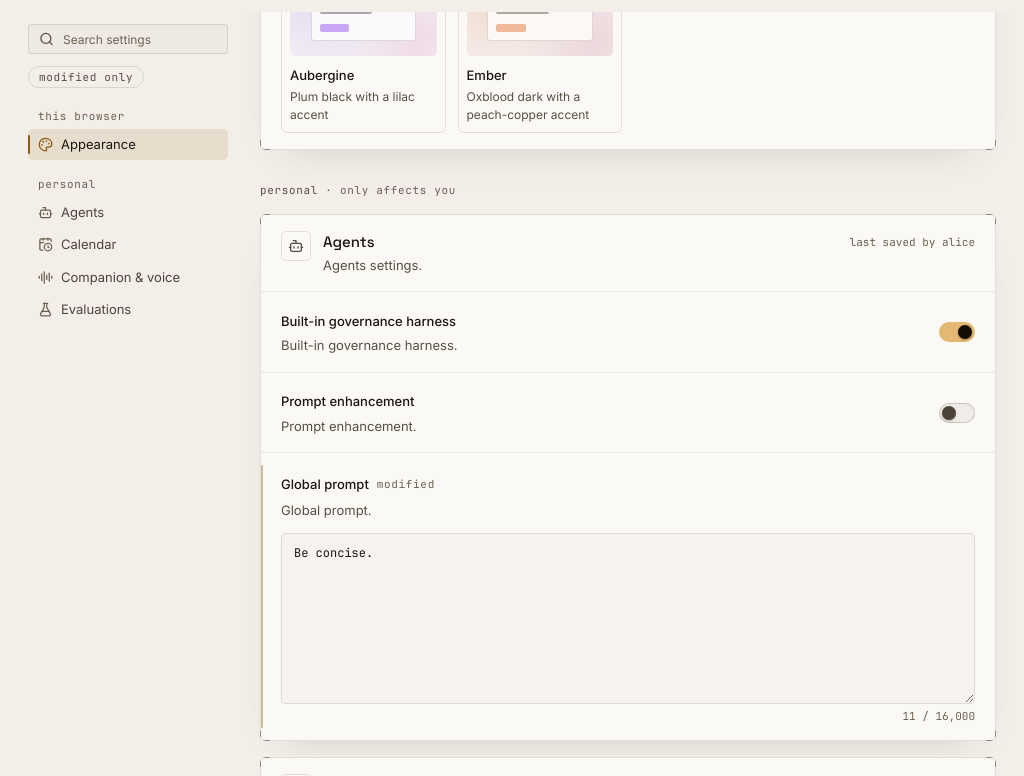
Scenario: Settings editing › saves only the changed fields of the changed groups
This screenshot has width=1024, height=776.
(page scrolled)
Click the switch labelled "Prompt enhancement" at (348, 402), box top-left (281, 392), bottom-right (414, 412)
(page scrolled)
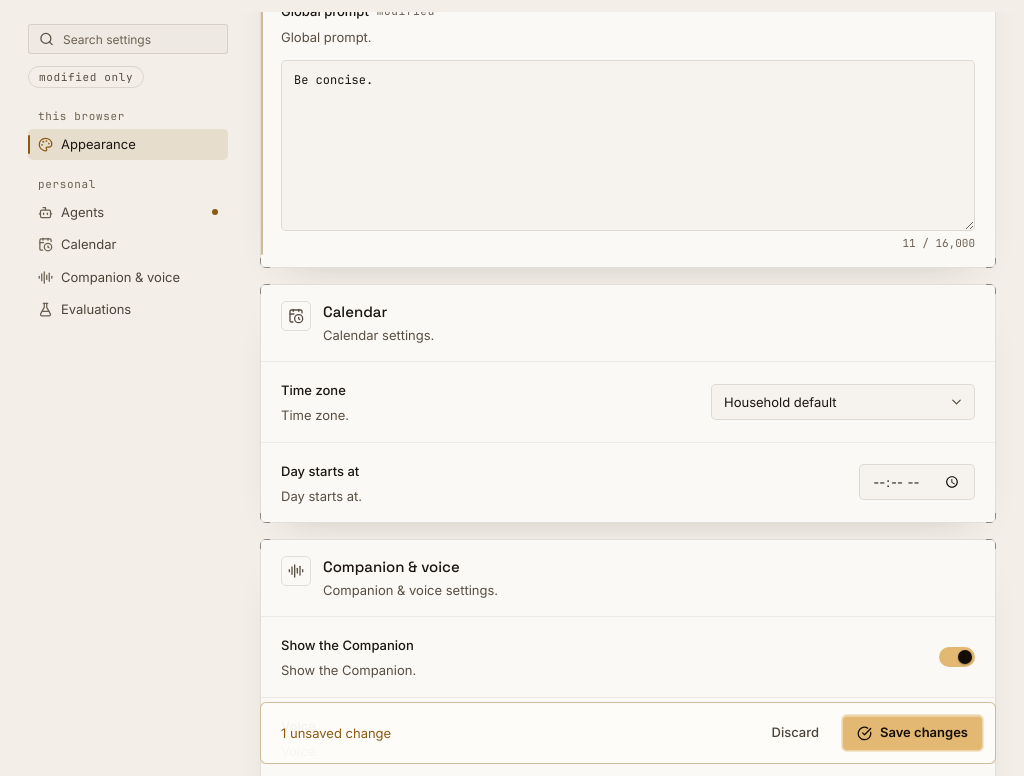
Select "Europe/Sofia" in the dropdown labelled "Time zone" at (843, 402), box top-left (711, 384), bottom-right (975, 420)
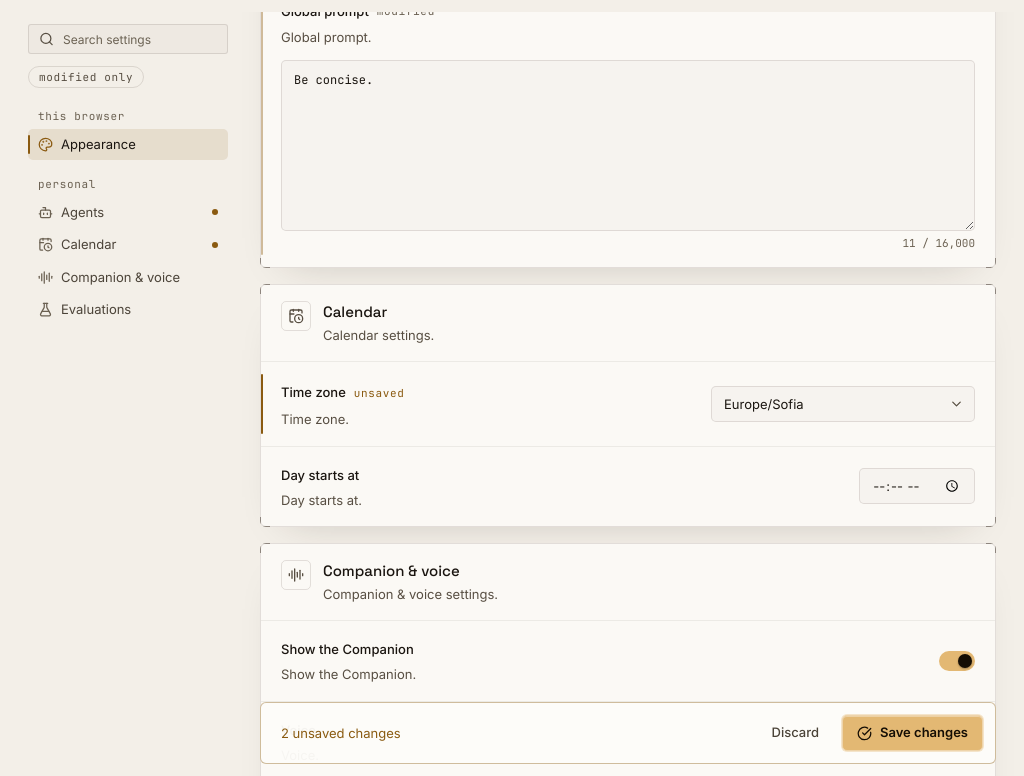
Type "07:30" into the time field labelled "Day starts at" at (917, 486), box top-left (859, 468), bottom-right (975, 504)
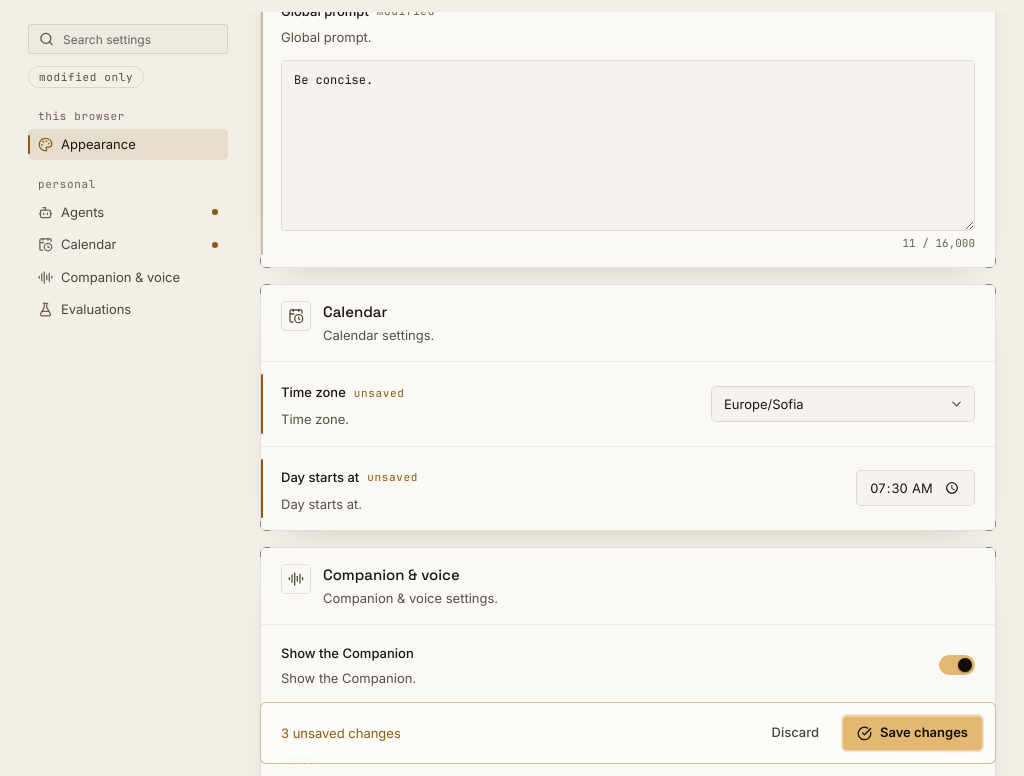
Click the button "Save changes" at (912, 733), box top-left (842, 715), bottom-right (983, 751)
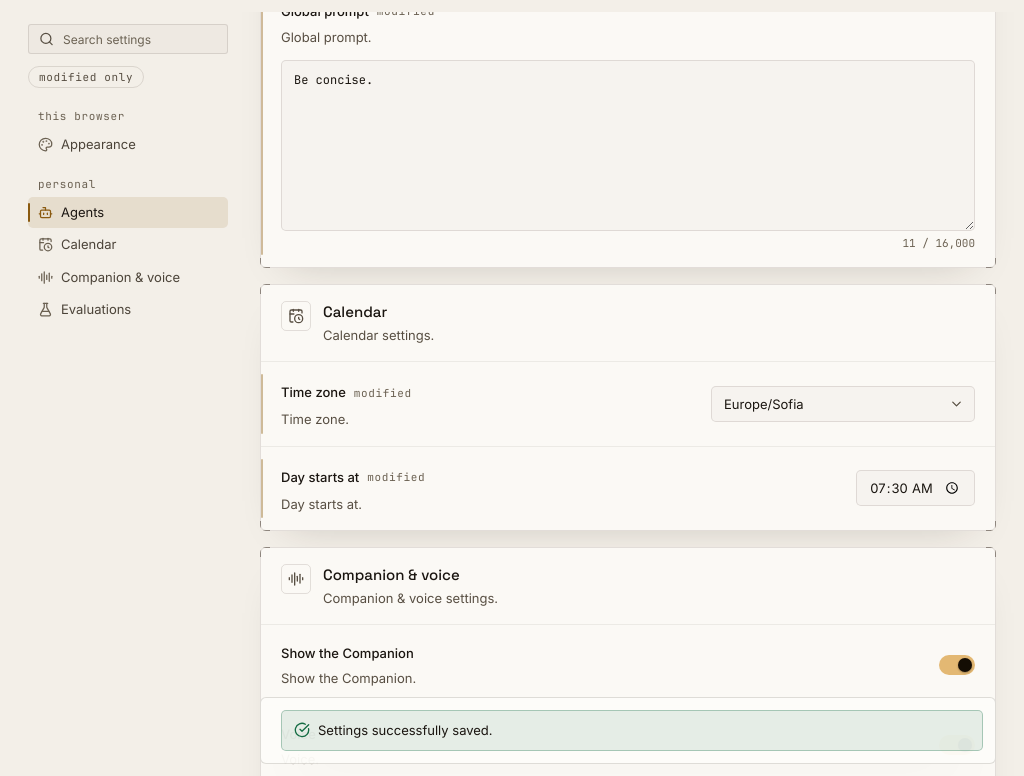
Result: the text "Settings successfully saved." is shown at top-left (318, 721), bottom-right (493, 740)
